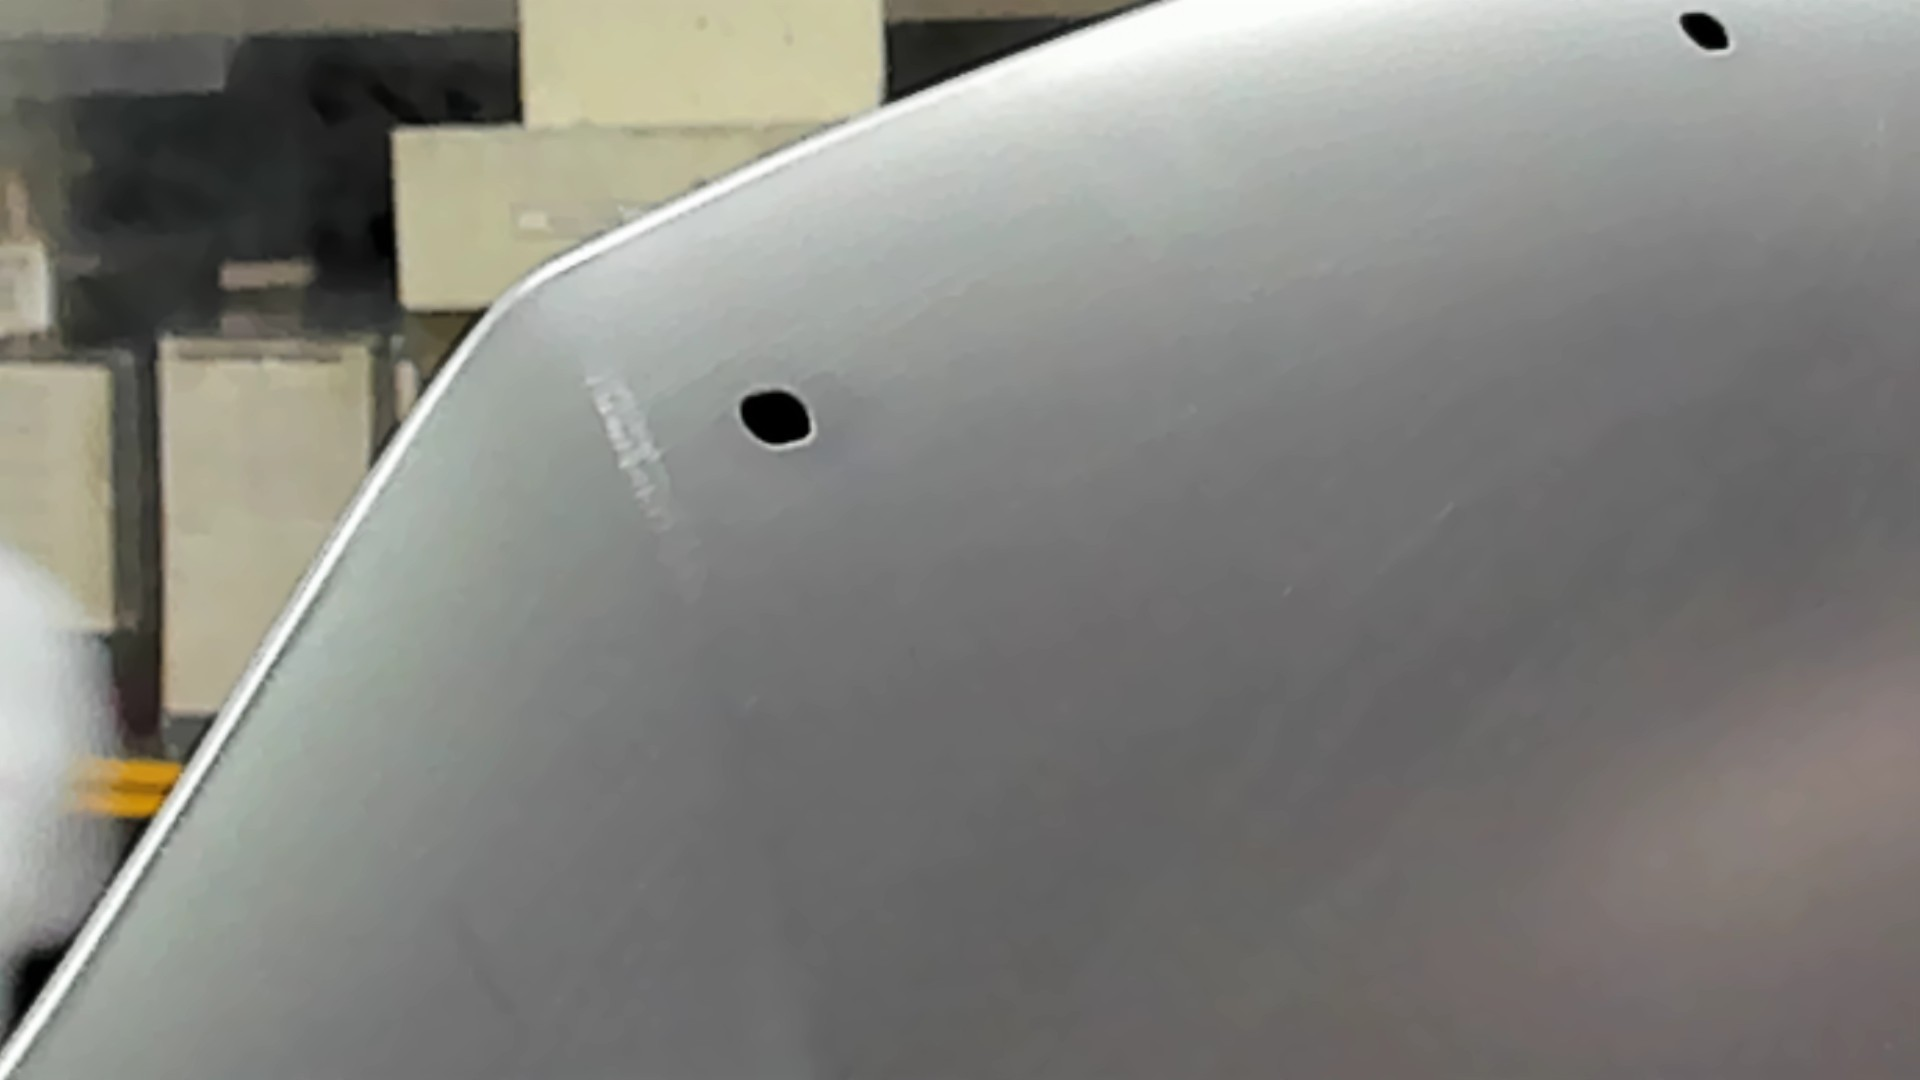amorfo: (725, 381, 827, 455), (1675, 9, 1738, 59)
capo: (903, 137, 1920, 1080)
